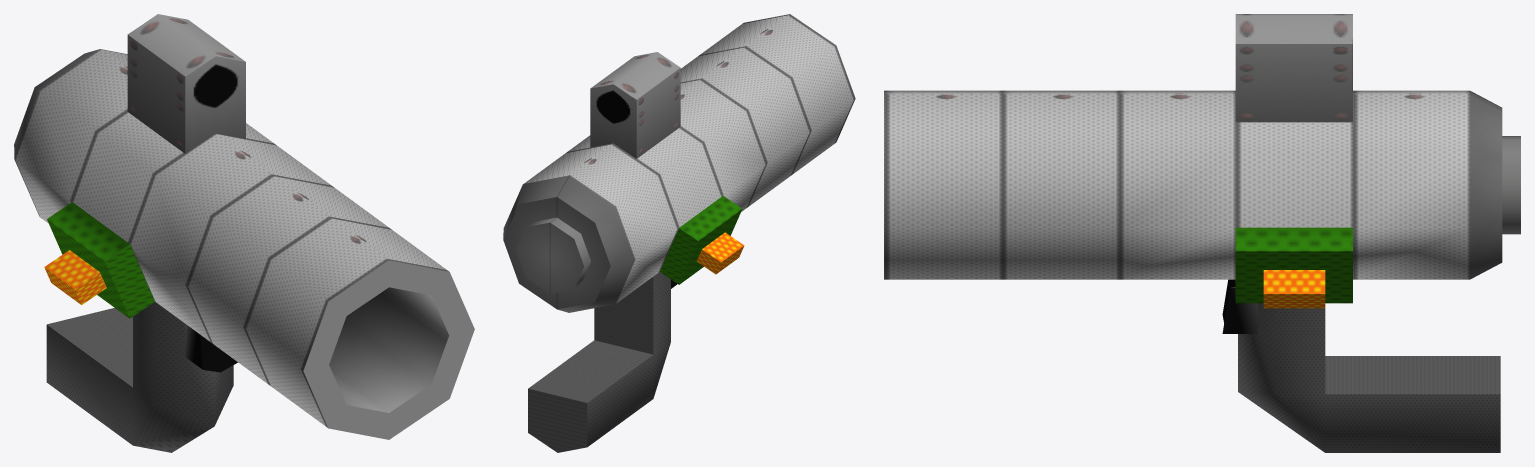
File: bazooka.fbx
3 views of the same model, side by side, from view 1: azimuth 30°, elevation 25°; view 2: azimuth 150°, elevation 25°; view 3: azimuth 270°, elevation 25° (orthographic). The views are drawn at different scales.
Parts seen in each view (by area): view 1: Cylinder001; view 2: Cylinder001; view 3: Cylinder001.
Boxes of the visible parts, x1,y1,x2,y2 form: Cylinder001: [14, 14, 474, 452]; Cylinder001: [503, 14, 855, 452]; Cylinder001: [884, 14, 1520, 452].
Size of the model in its own units: 17.83 by 28.67 by 38.02.
1 material, 1 textured.
